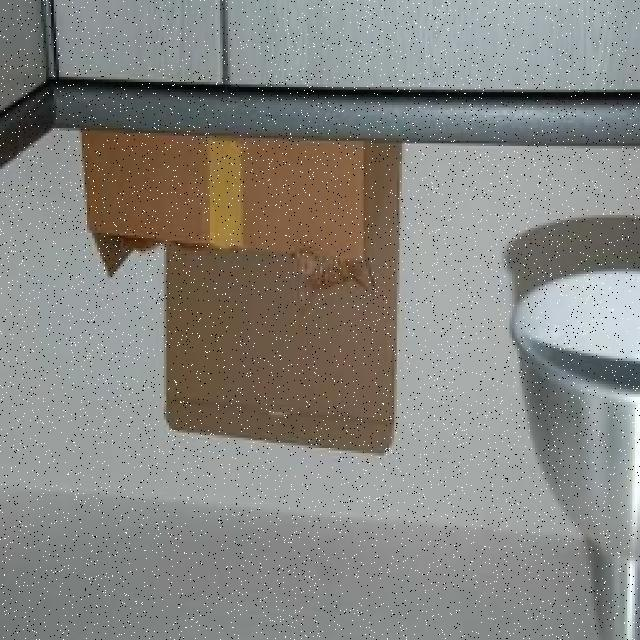box: (72, 110, 430, 483)
